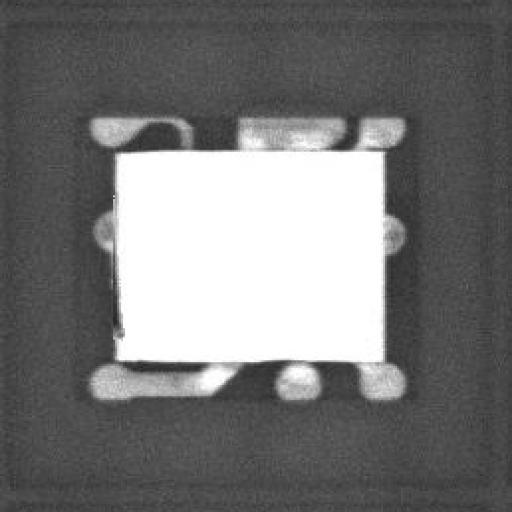DIE_BROKEN: (107, 245, 125, 341)
